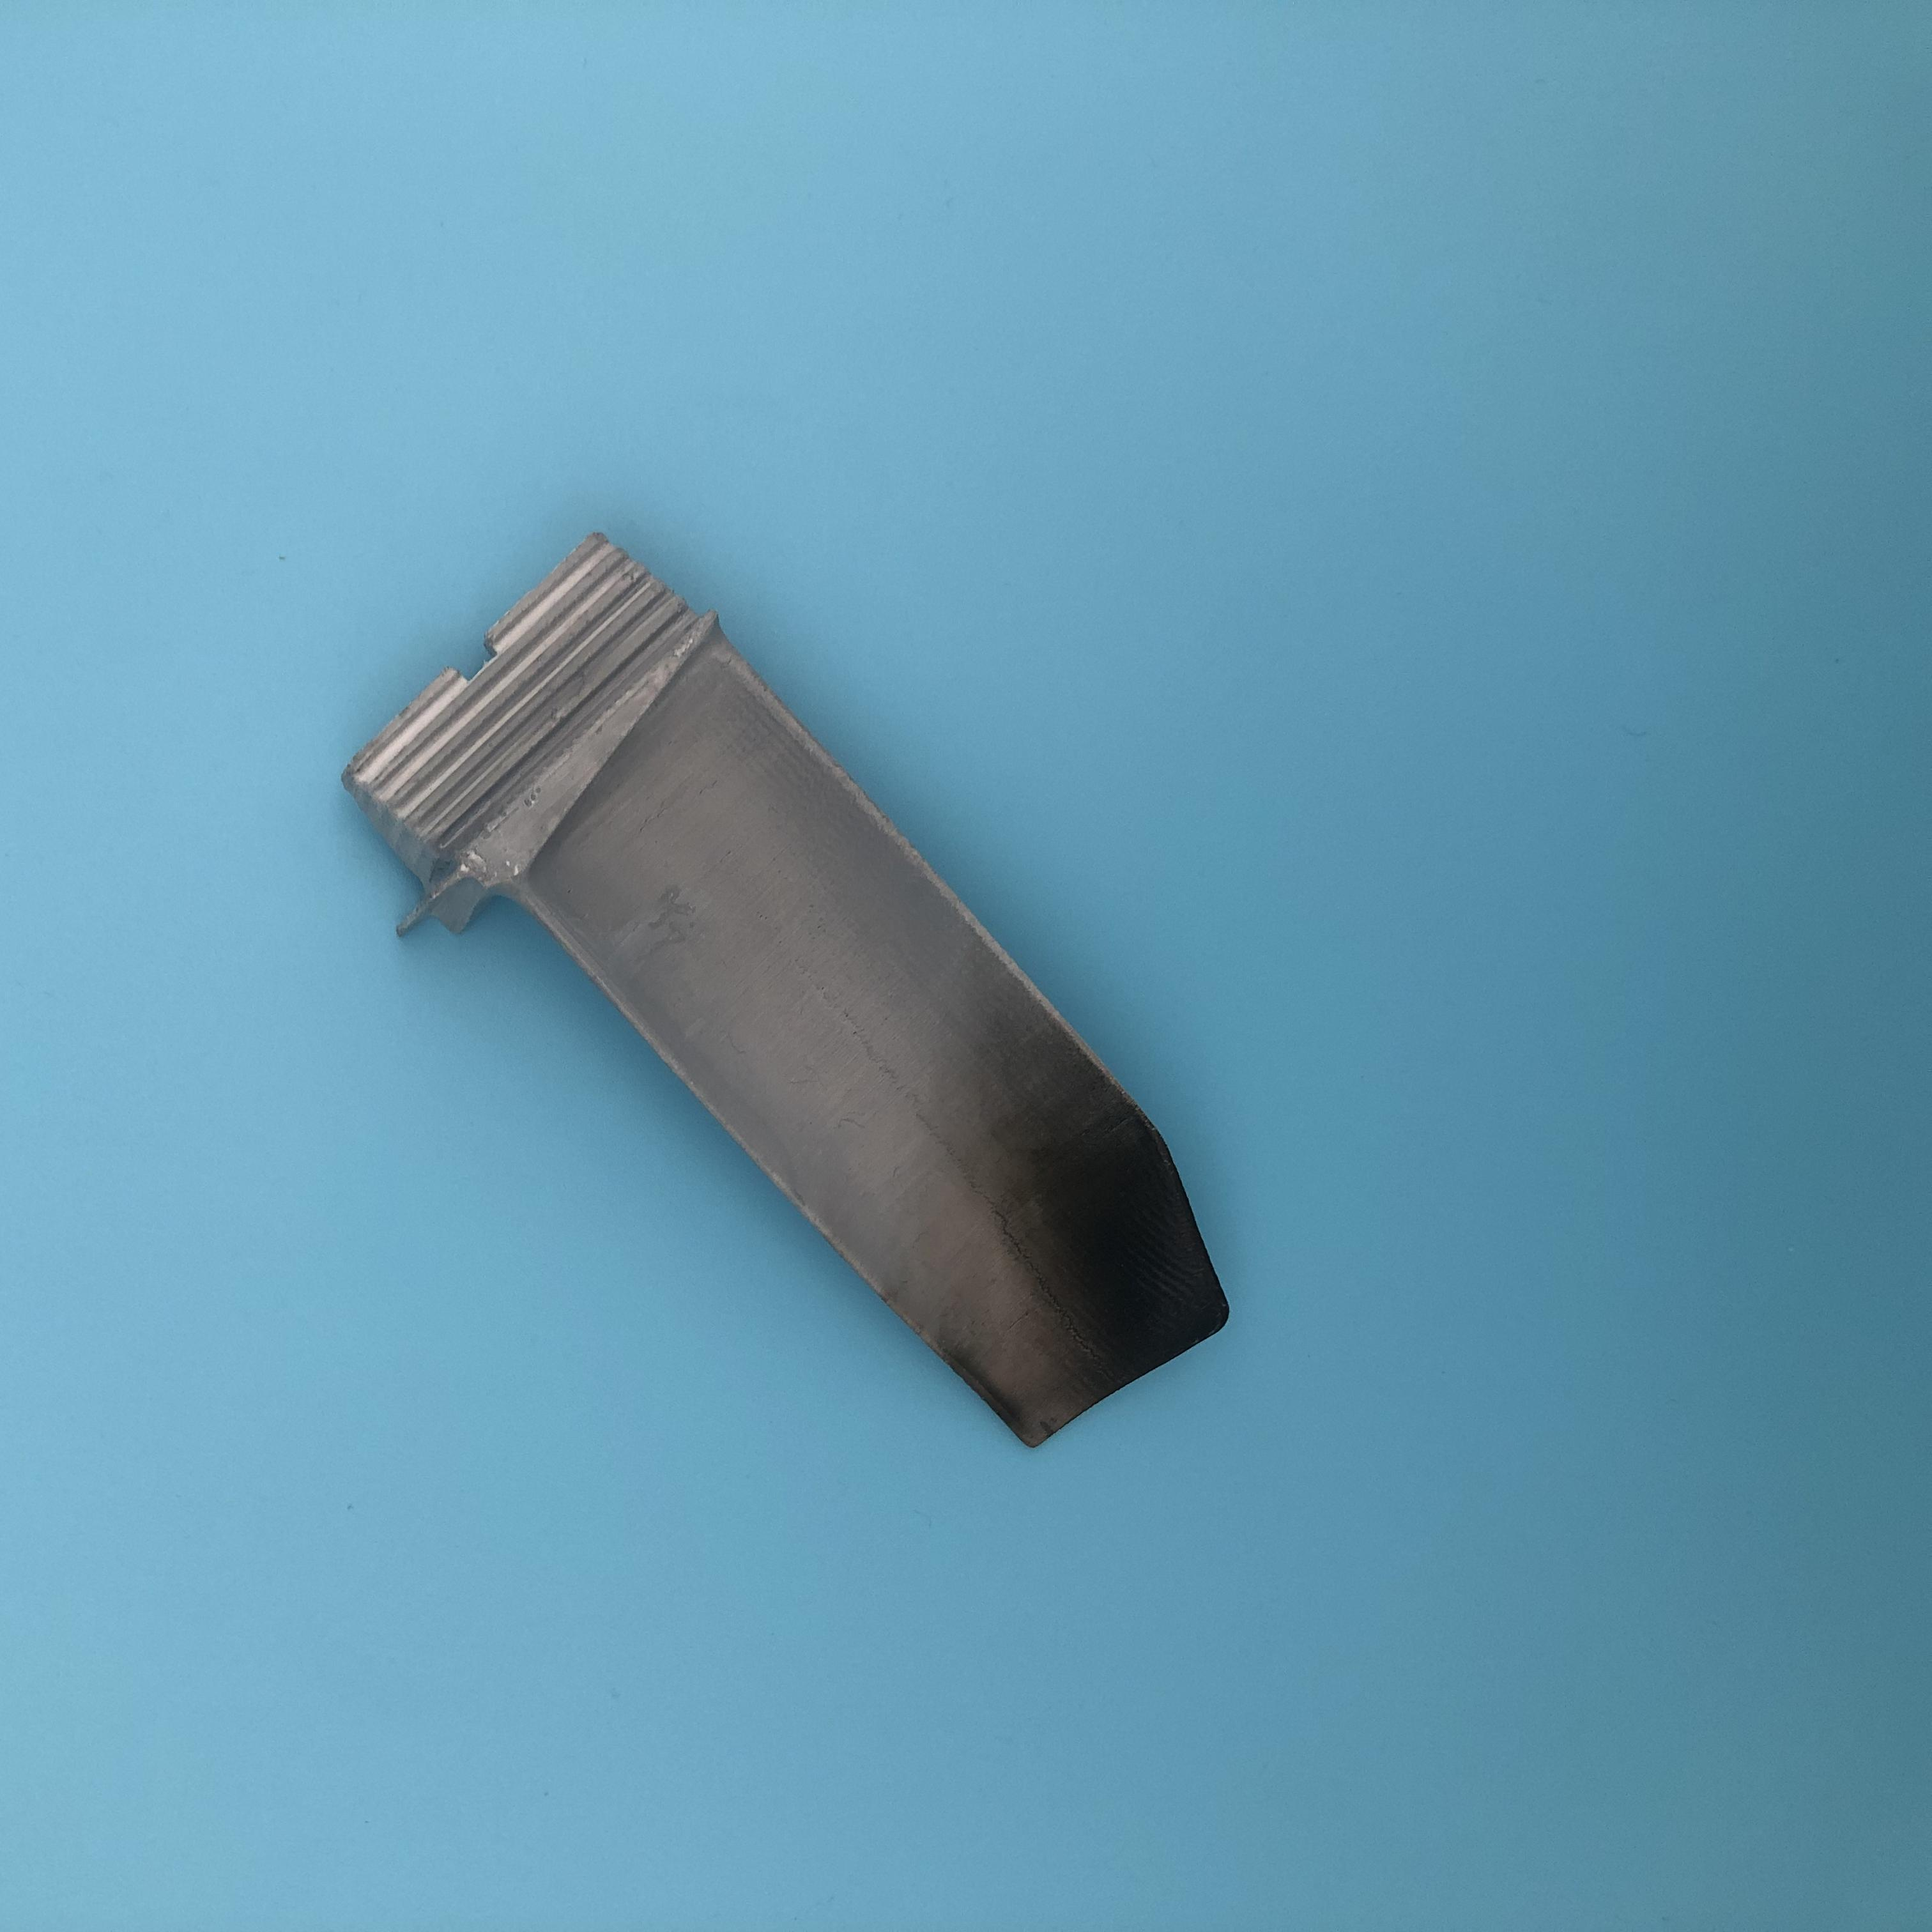ablation: (934, 1028, 1244, 1387)
